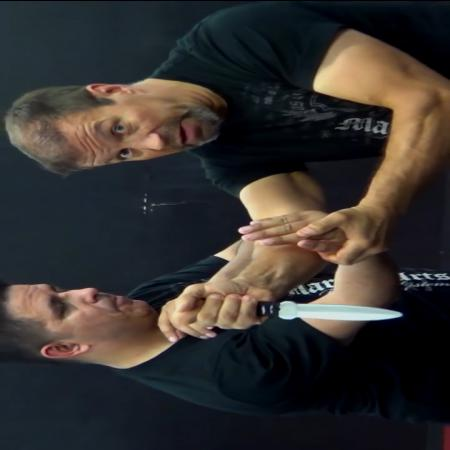long weapon: (171, 285, 408, 333)
